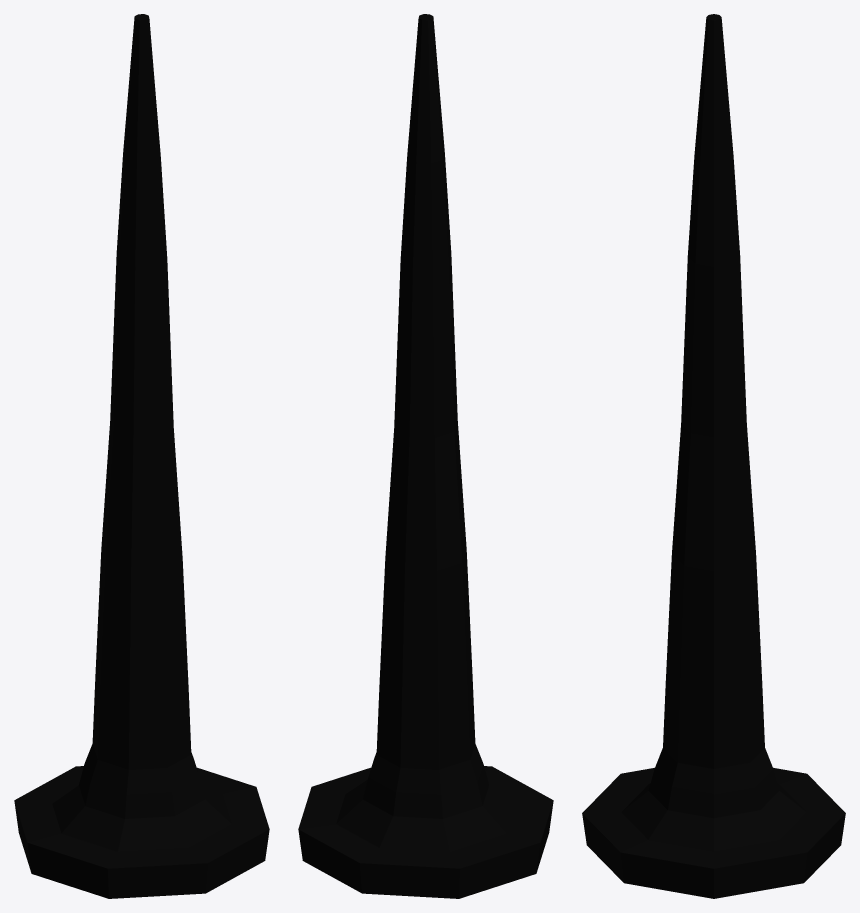
File: Nail.fbx
3 views of the same model, side by side, from view 1: azimuth 30°, elevation 25°; view 2: azimuth 150°, elevation 25°; view 3: azimuth 270°, elevation 25° (orthographic).
Visible parts, largest first — view 1: Bake.005; view 2: Bake.005; view 3: Bake.005.
Boxes of the visible parts, x1,y1,x2,y2 form: Bake.005: [14, 14, 269, 898]; Bake.005: [298, 14, 553, 898]; Bake.005: [582, 14, 845, 898].
Size of the model in its own units: 119 by 412 by 119.
Materials: 1 (1 with a texture image).
